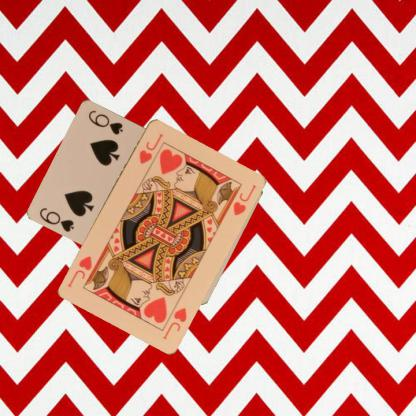6s: (37, 204, 76, 234)
Jh: (160, 304, 188, 340), (136, 131, 164, 165)
